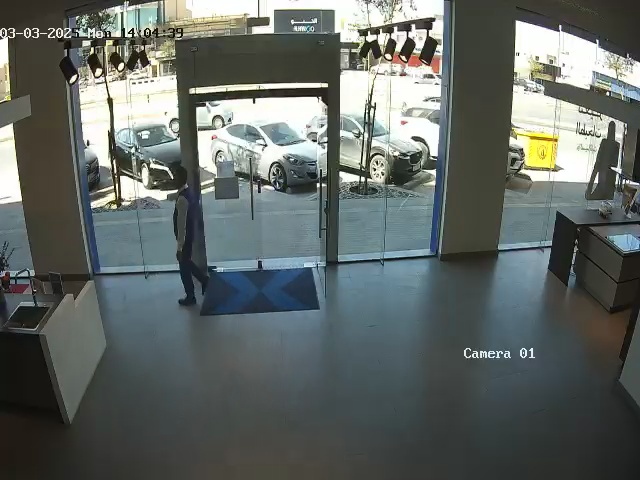male: (167, 165, 209, 306)
